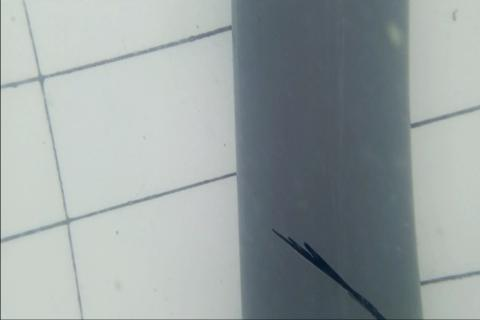keretakan: (269, 224, 388, 319)
